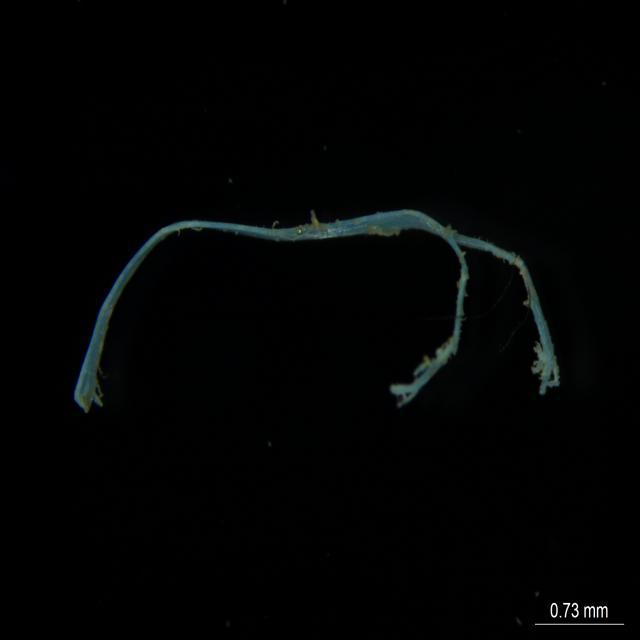fibers: (71, 207, 561, 412)
